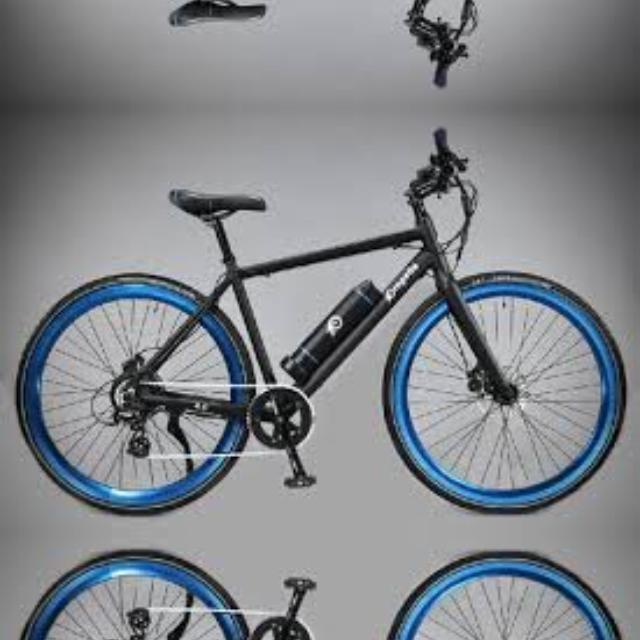obstacle: (15, 120, 632, 526), (15, 540, 632, 640), (15, 0, 632, 94)
